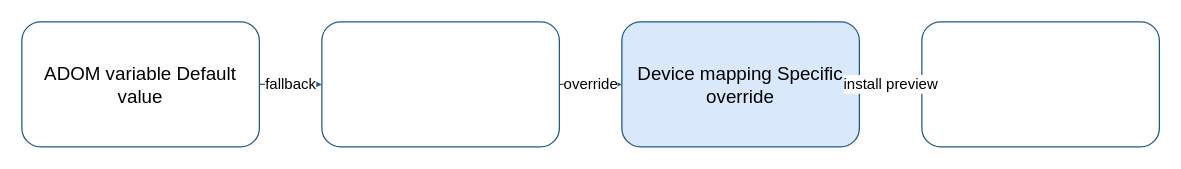
Image size: 1181x169. Some labels were removed from this diagram. The box of each missing label's shape, as (x1, y1, x2, y2) in pixels:
Group mapping Shared value: (321, 21, 559, 147)
Rendered object $variable resolved: (921, 21, 1159, 147)
